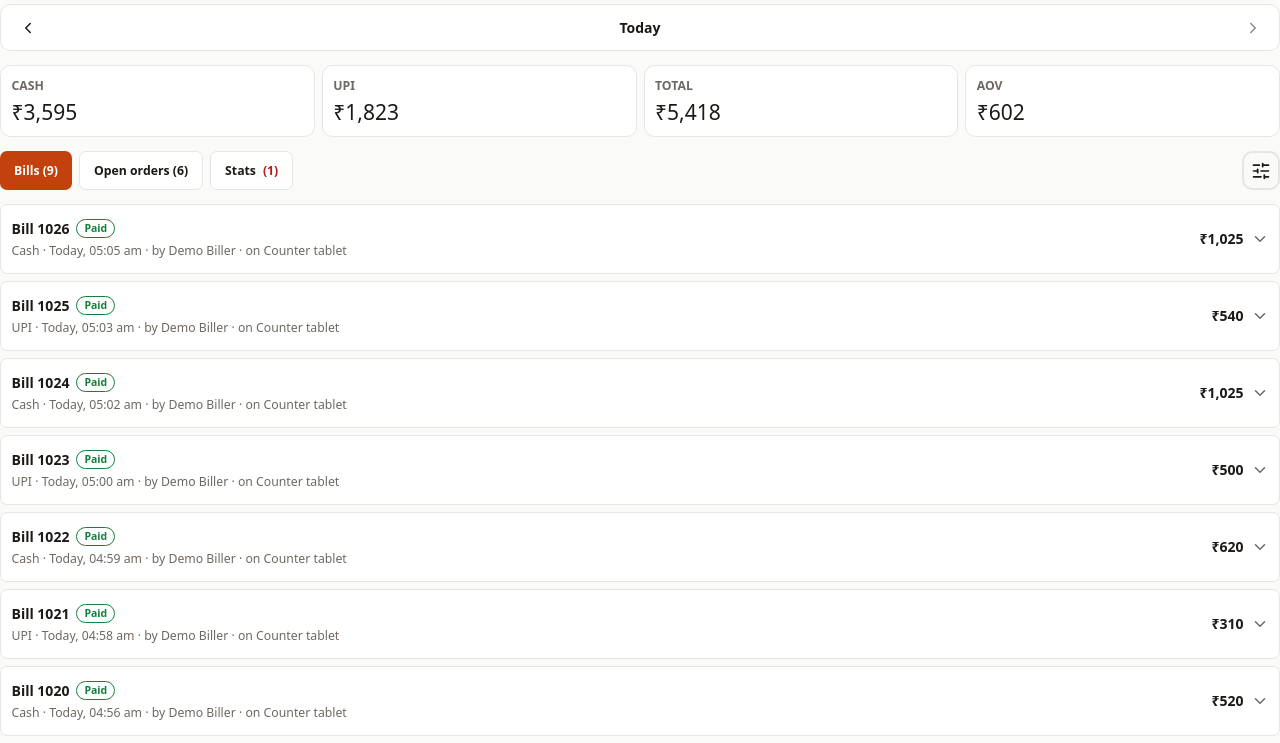
Scenario: counts the open orders on opening, and reads them and the kitchens each time the tab is chosen
Click the tab "Open orders (6)": x=141, y=171 [79,151,203,190]
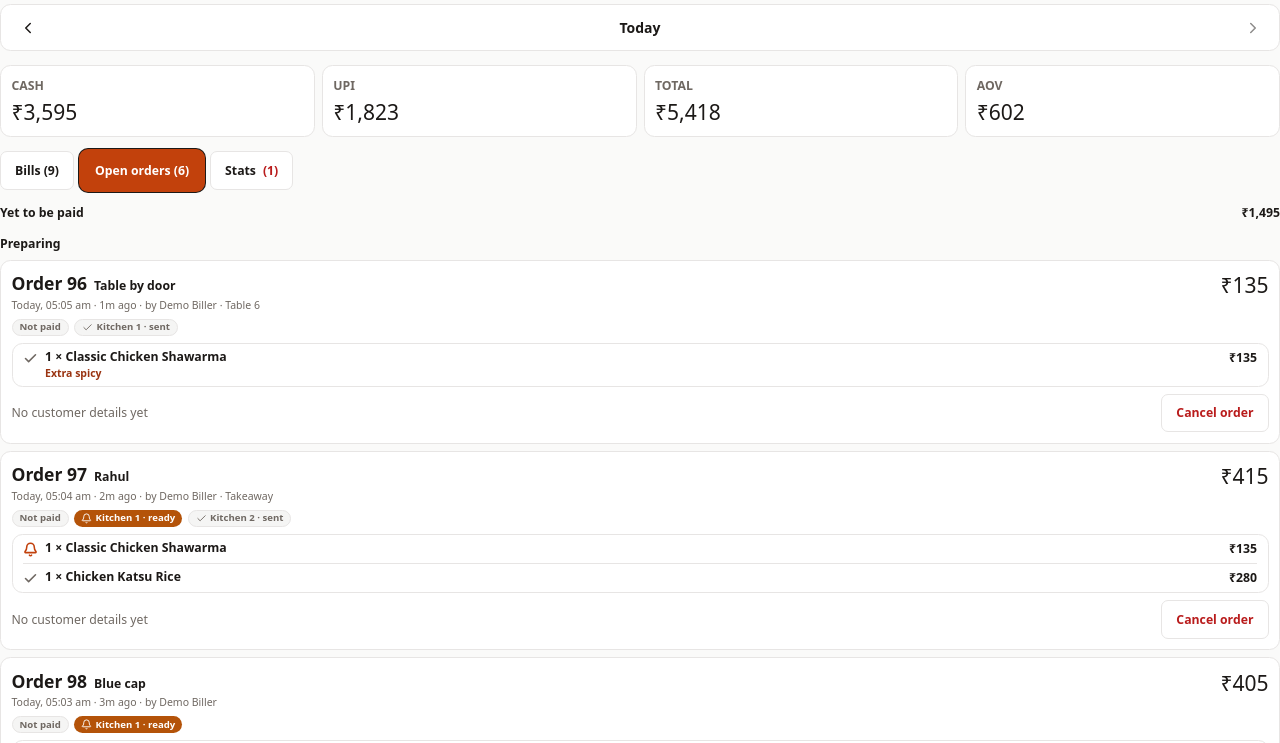
Click the tab "Bills (9)": x=37, y=171 [0,151,74,190]
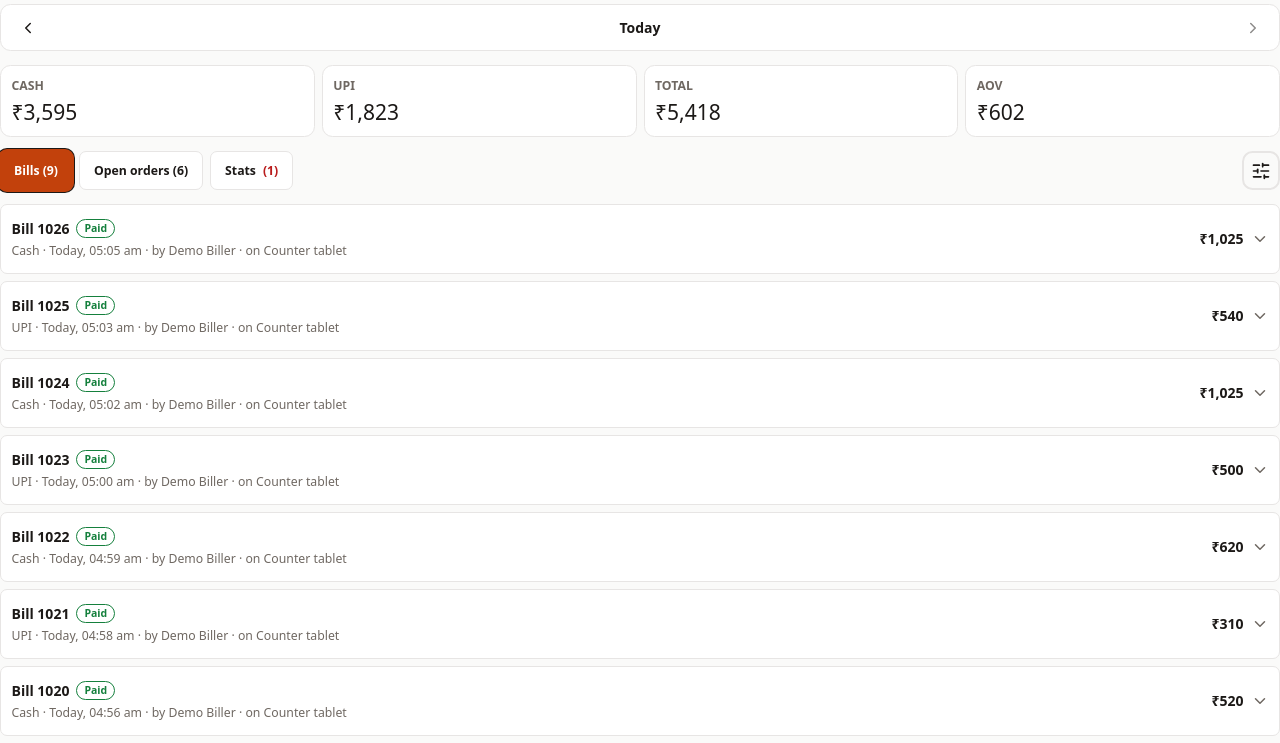
Click the tab "Open orders (6)": x=141, y=171 [79,151,203,190]
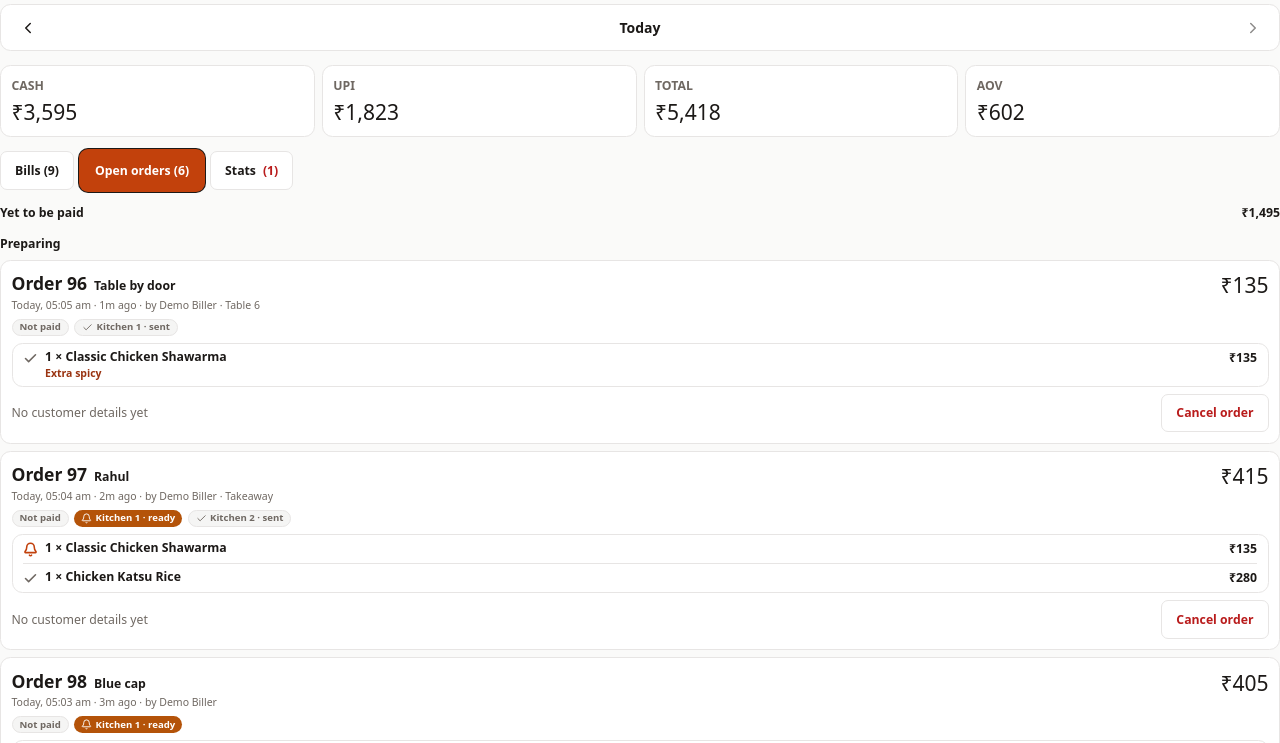
// Tapping the open tab again reads it again too.
Click the tab "Open orders (6)": x=142, y=171 [81,151,203,190]
(page scrolled)
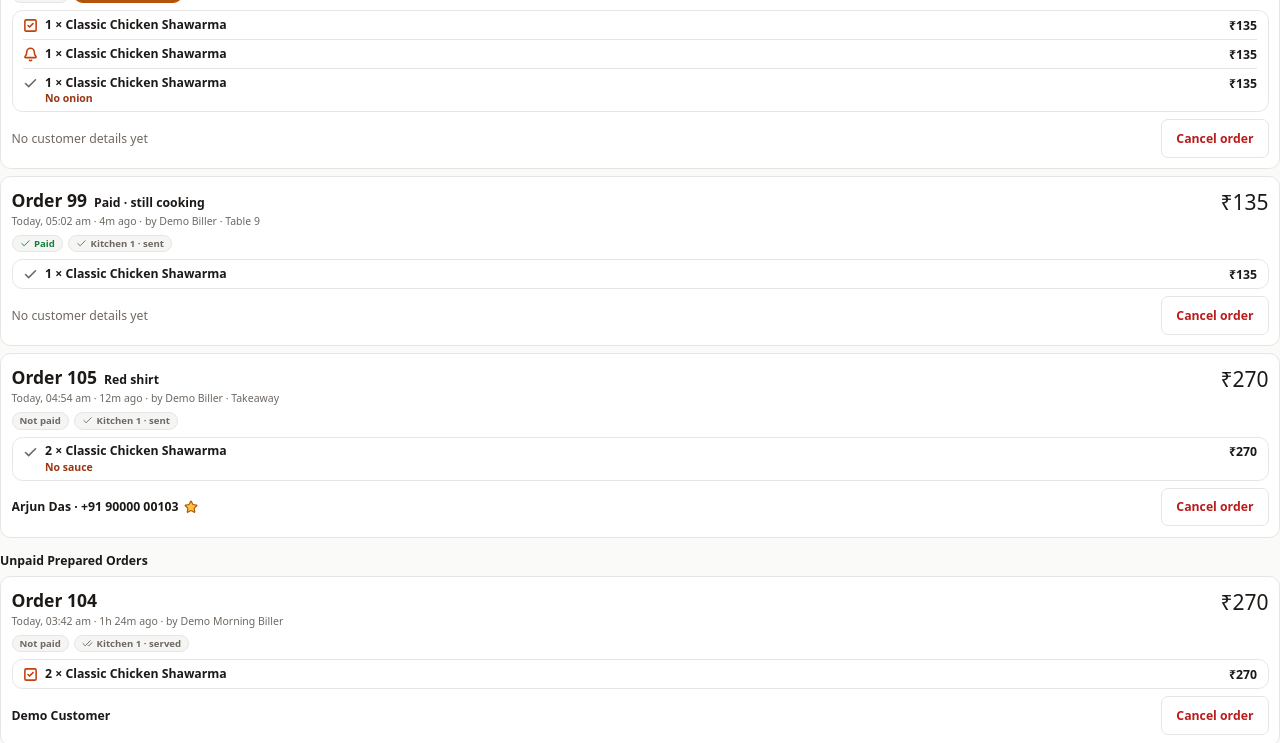
Now the element with test id "manager-dish-order-104" is shown, box [12,588,1268,735]
Click the button with aria-label "Cancel order 104": x=1215, y=716 [1161,696,1268,735]
(page scrolled)
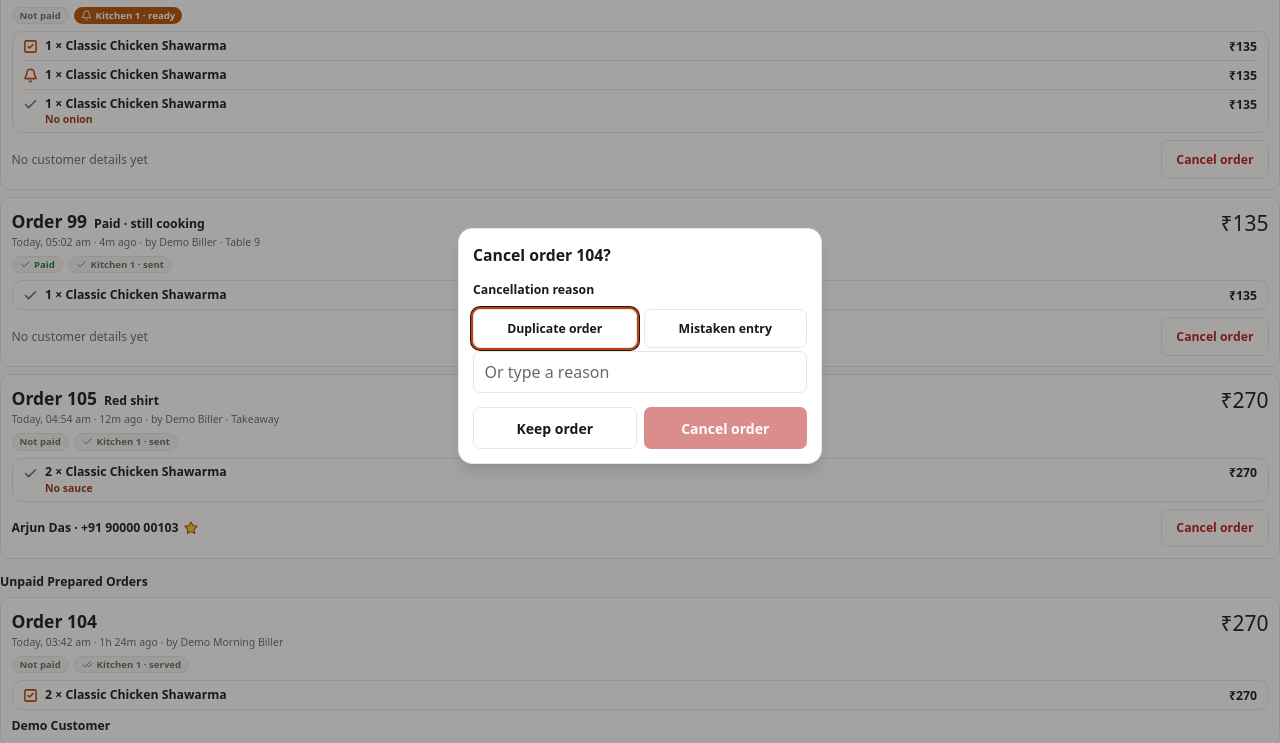
Now the dialog "Cancel order 104" is shown, box [458,228,822,464]
